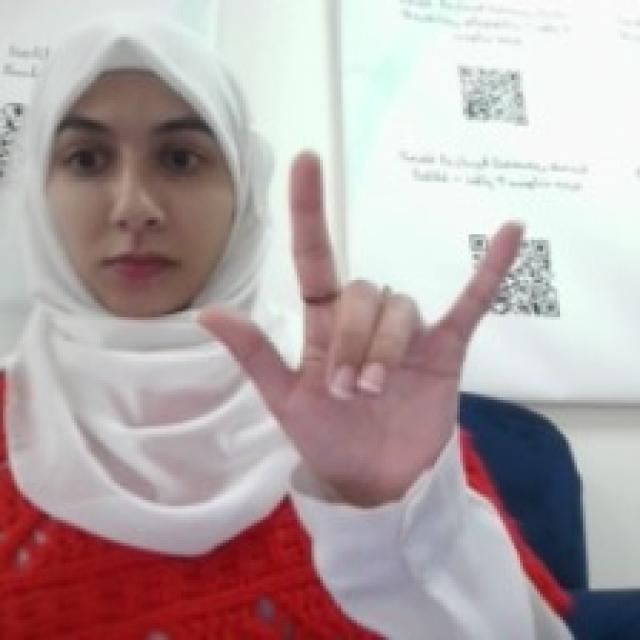love: (191, 143, 526, 480)
